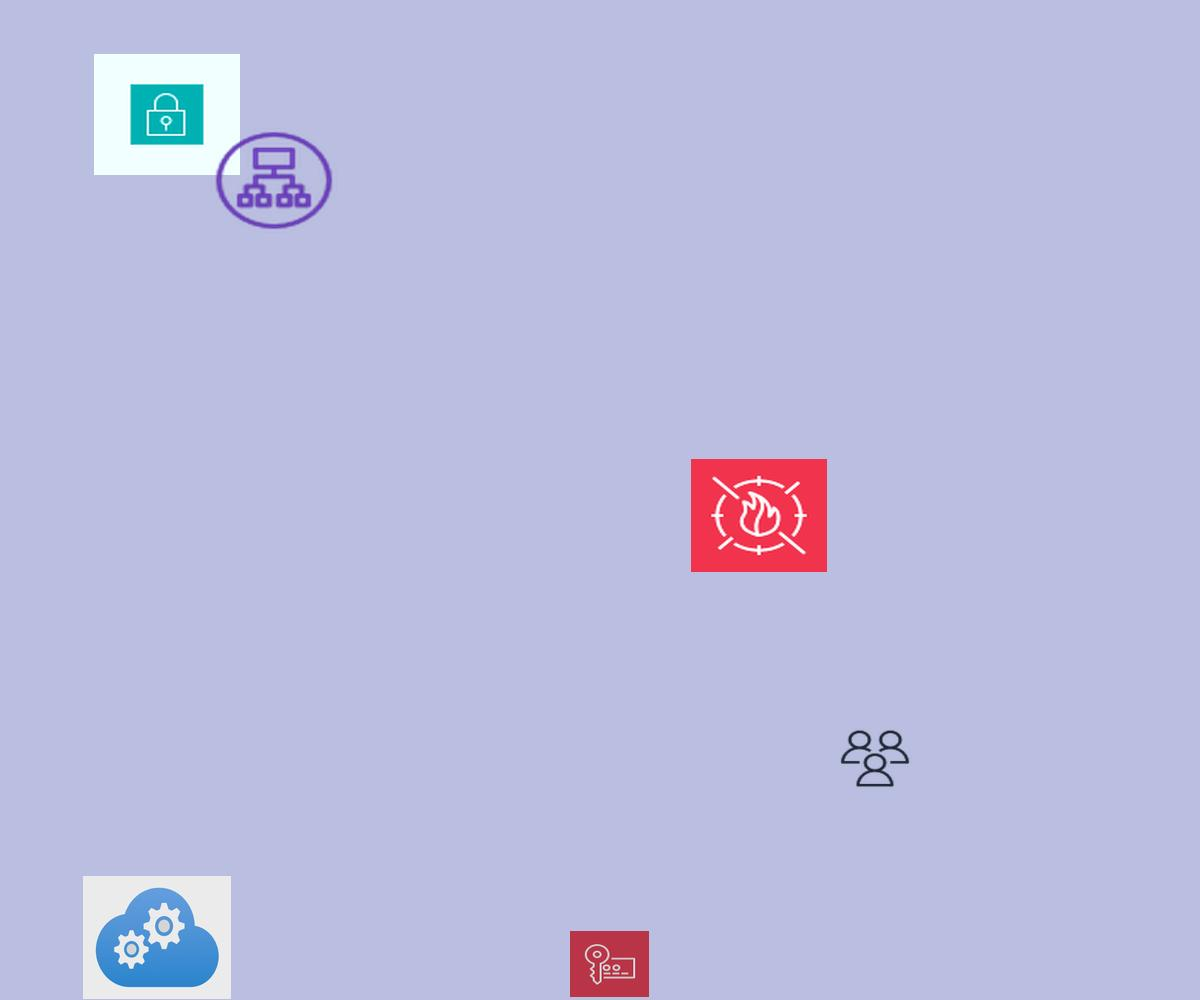AWS-Key-Management-Service: (570, 931, 649, 997)
AWS-Private-subnet: (94, 54, 240, 175)
AWS-Res_Elastic-Load-Balancing_Application-Load-Balancer: (211, 128, 337, 233)
AWS-Res_Users: (838, 728, 912, 789)
AWS-WAF: (691, 459, 827, 572)
Azure_cloud_services: (83, 876, 231, 999)
